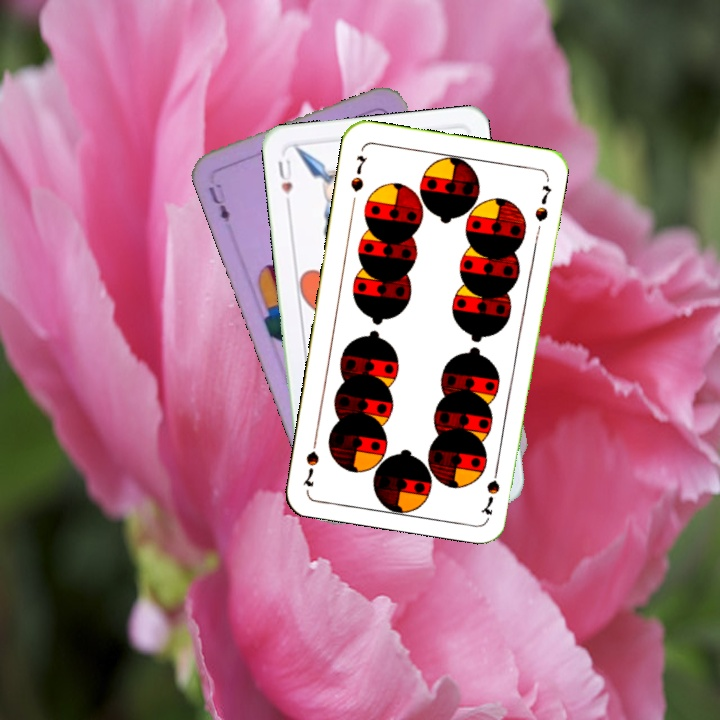EU: (204, 182, 233, 225)
HU: (273, 155, 295, 197)
S7: (478, 460, 502, 518), (347, 151, 369, 195)
